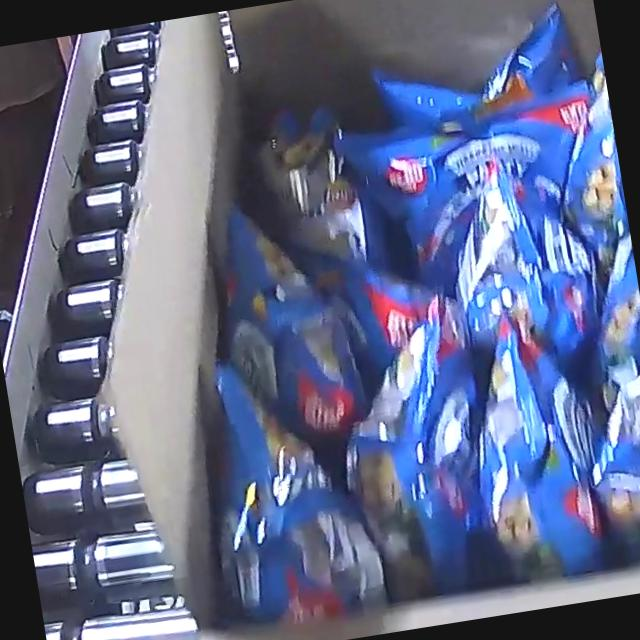paprika: (137, 0, 640, 636)
